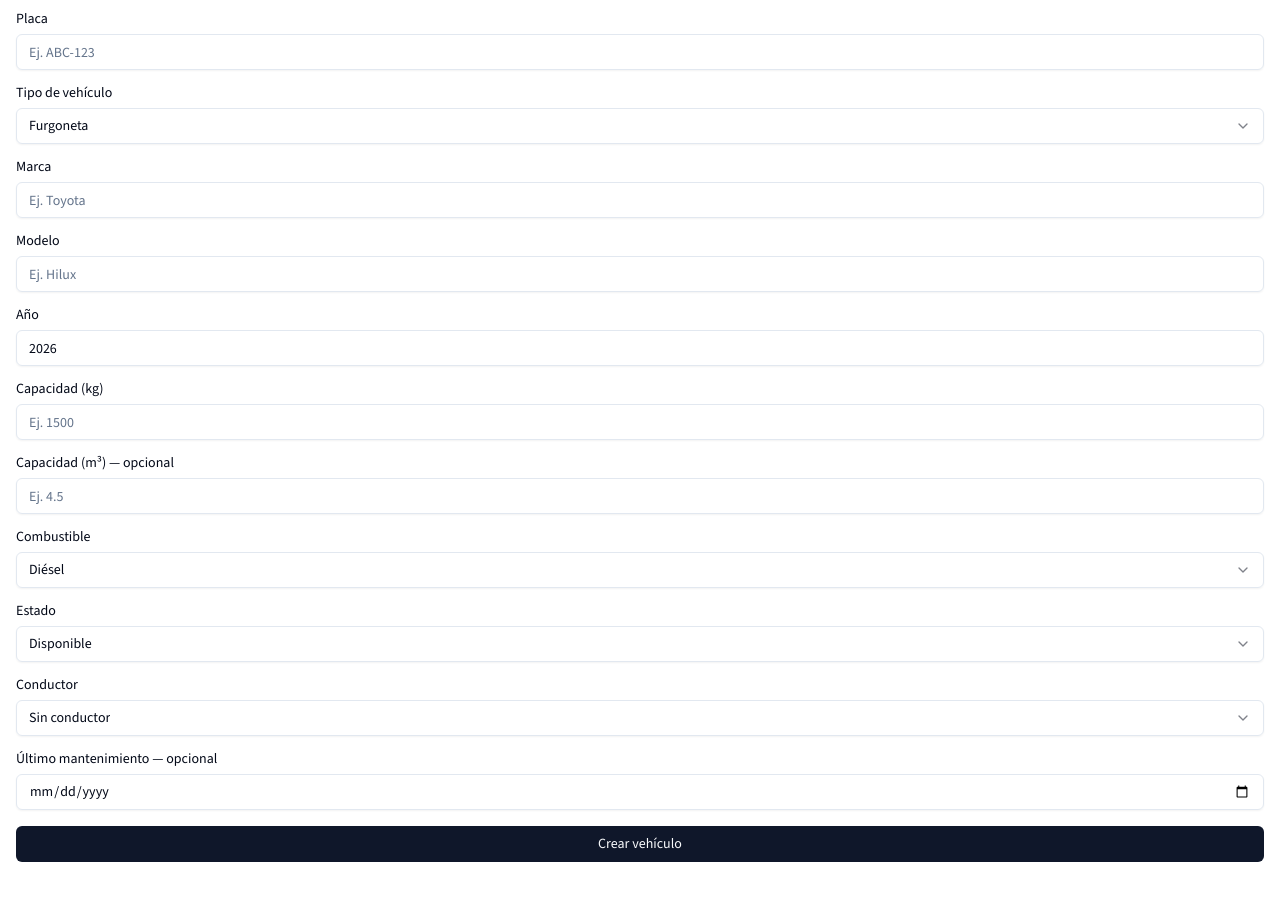
Test: VehicleForm — validation › shows error when brand is empty on submit
Type "XYZ-999" into the field with placeholder "Ej. ABC-123" at (640, 52), box [16,34,1264,70]
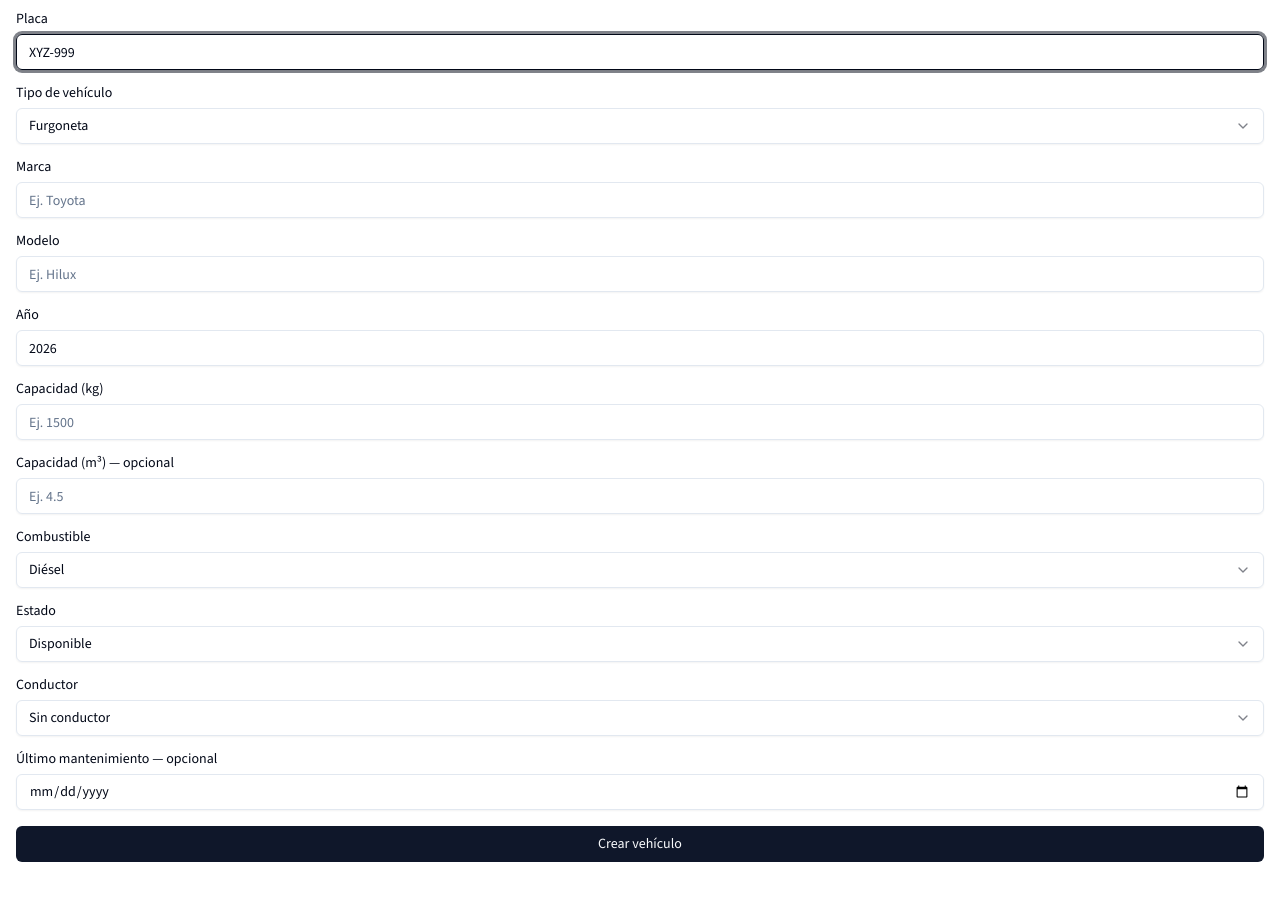
Type "CRV" into the field with placeholder "Ej. Hilux" at (640, 274), box [16,256,1264,292]
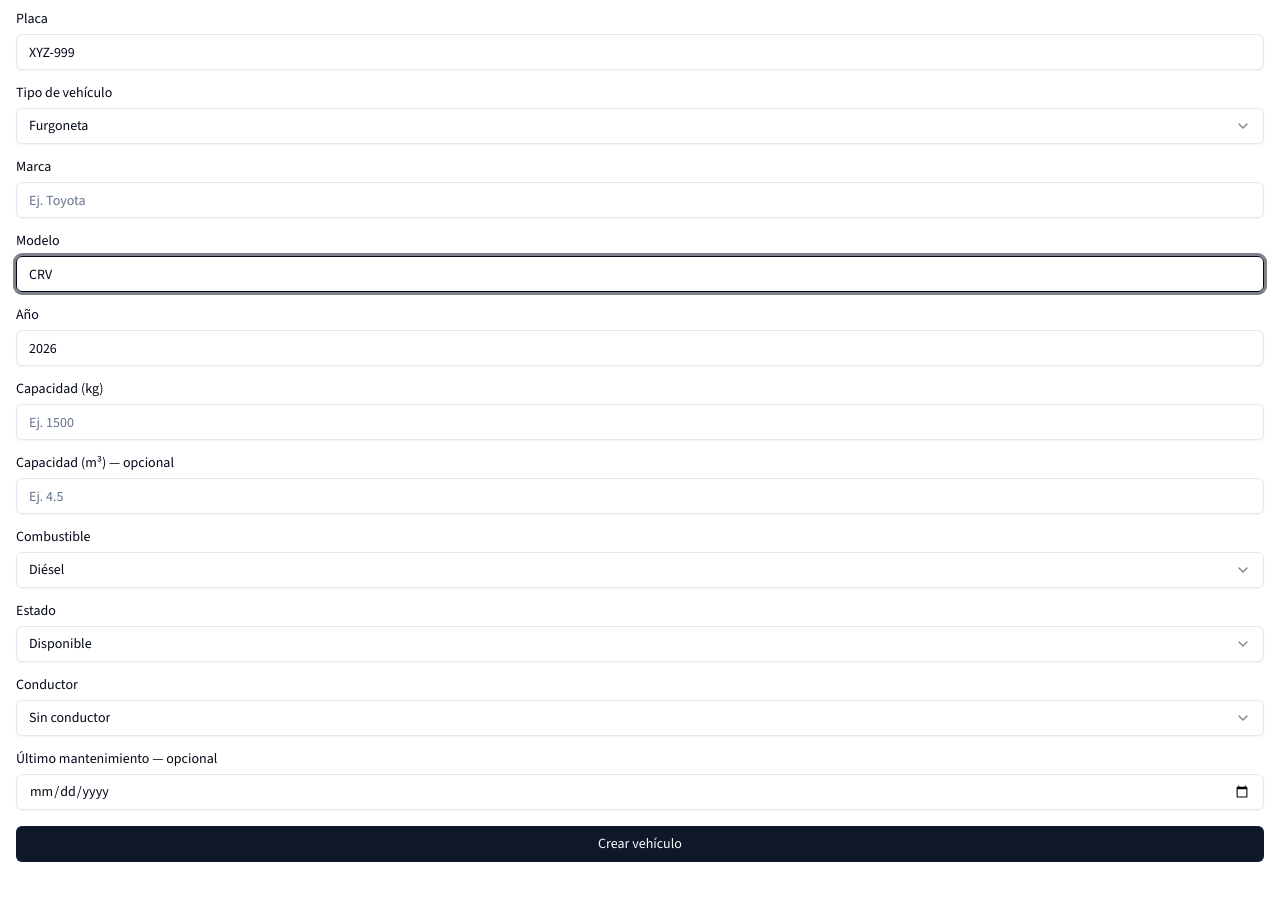
Type "800" into the field with placeholder "Ej. 1500" at (640, 422), box [16,404,1264,440]
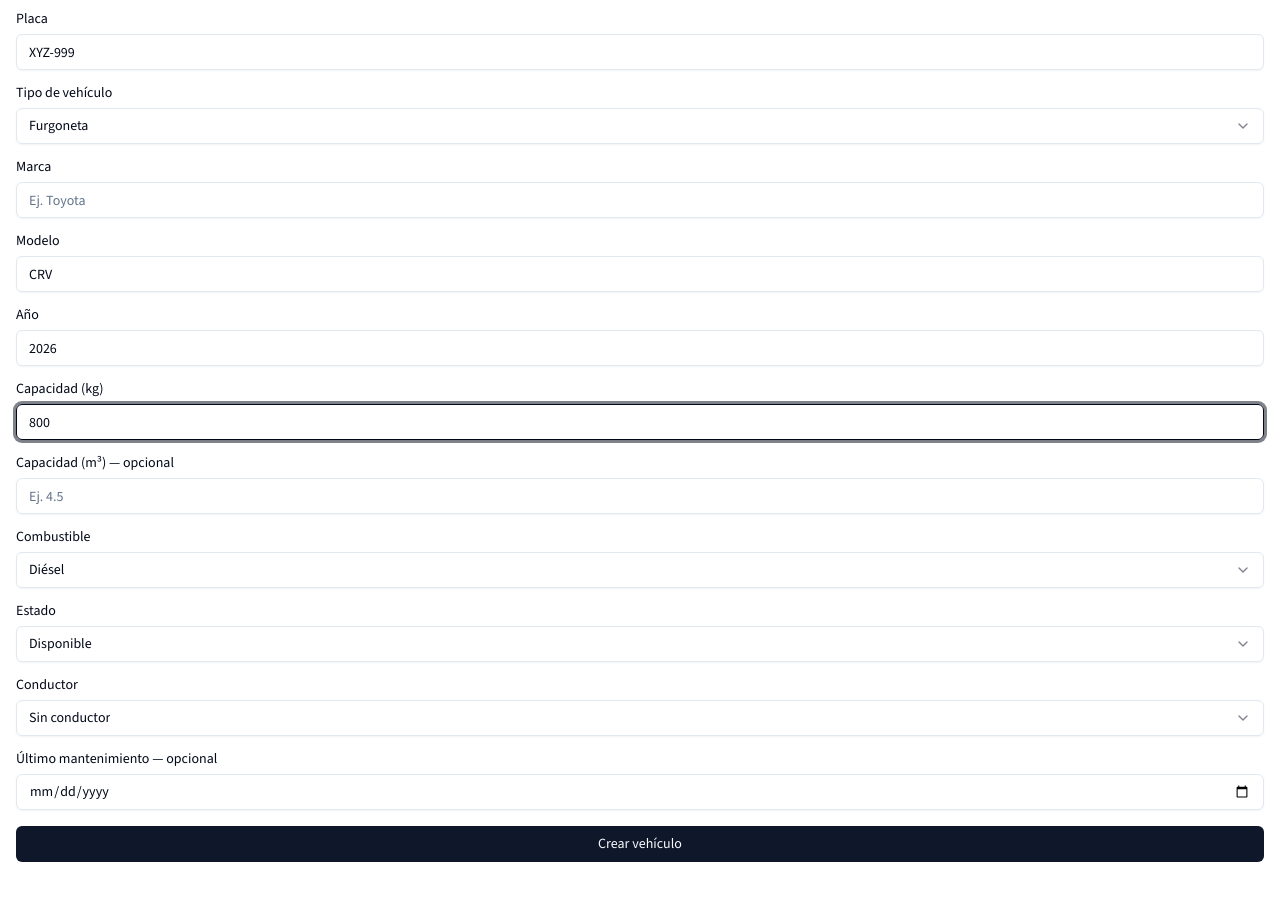
Click the button "Crear vehículo" at (640, 844), box [16,826,1264,862]
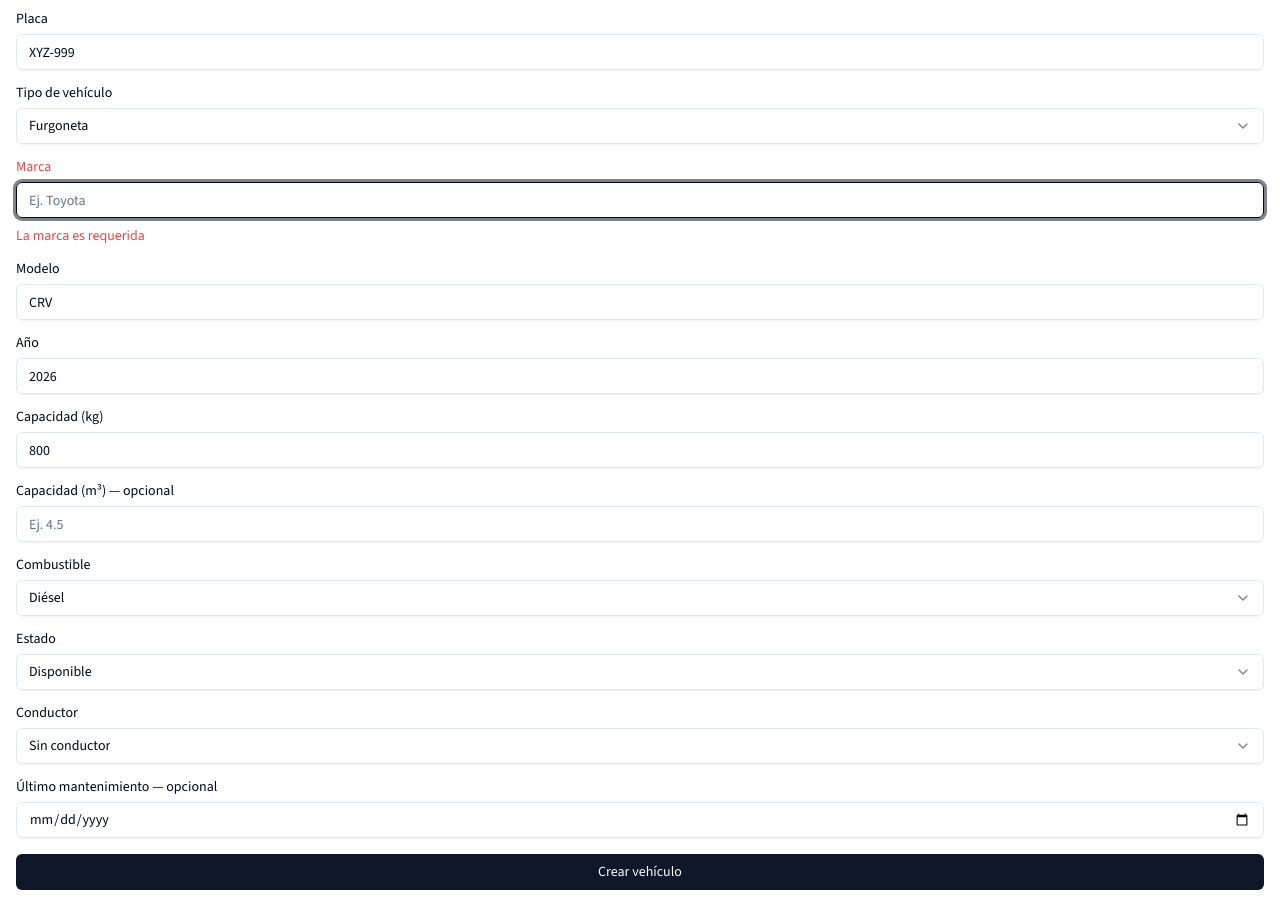
Now the text "La marca es requerida" is shown, box [16,226,145,245]
